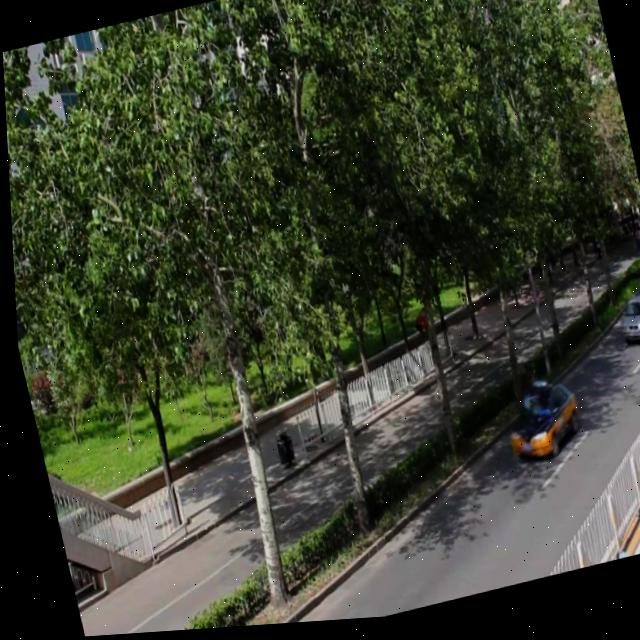car: (493, 384, 578, 470), (611, 298, 640, 355)
